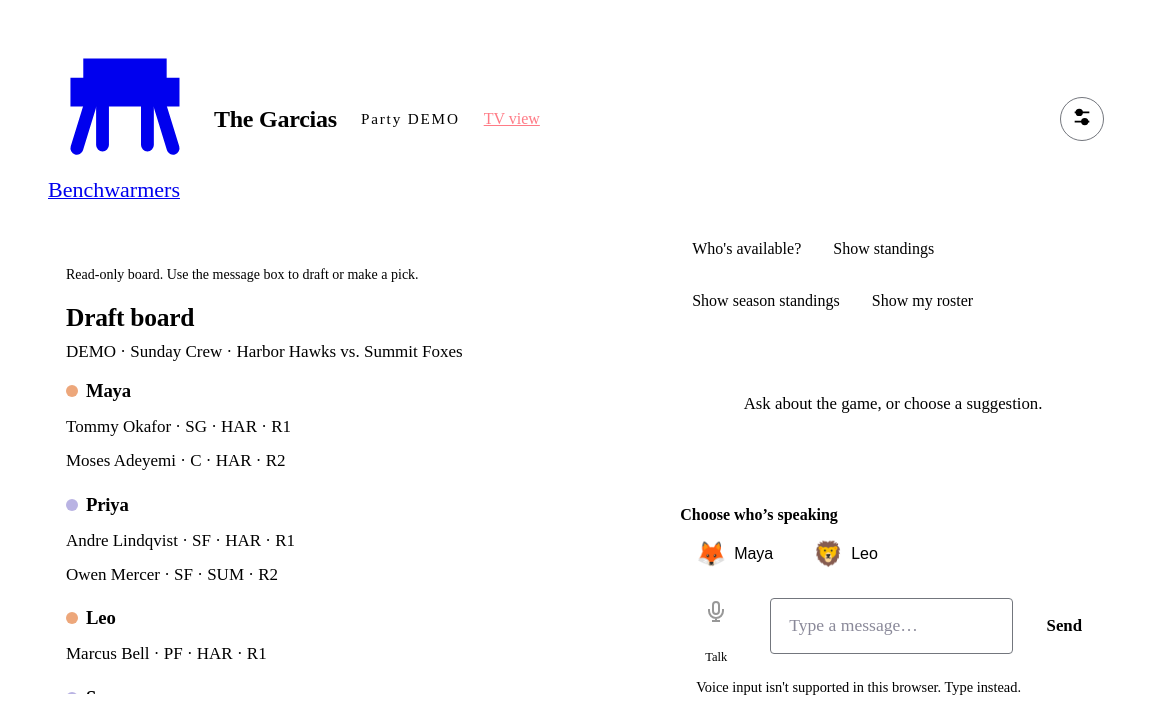
DeviceScreen › fallback card renders from structuredContent when the widget cannot start
Type "show the board" into the field labelled "Type a message". click: x=891, y=626
box: [770, 598, 1012, 654]
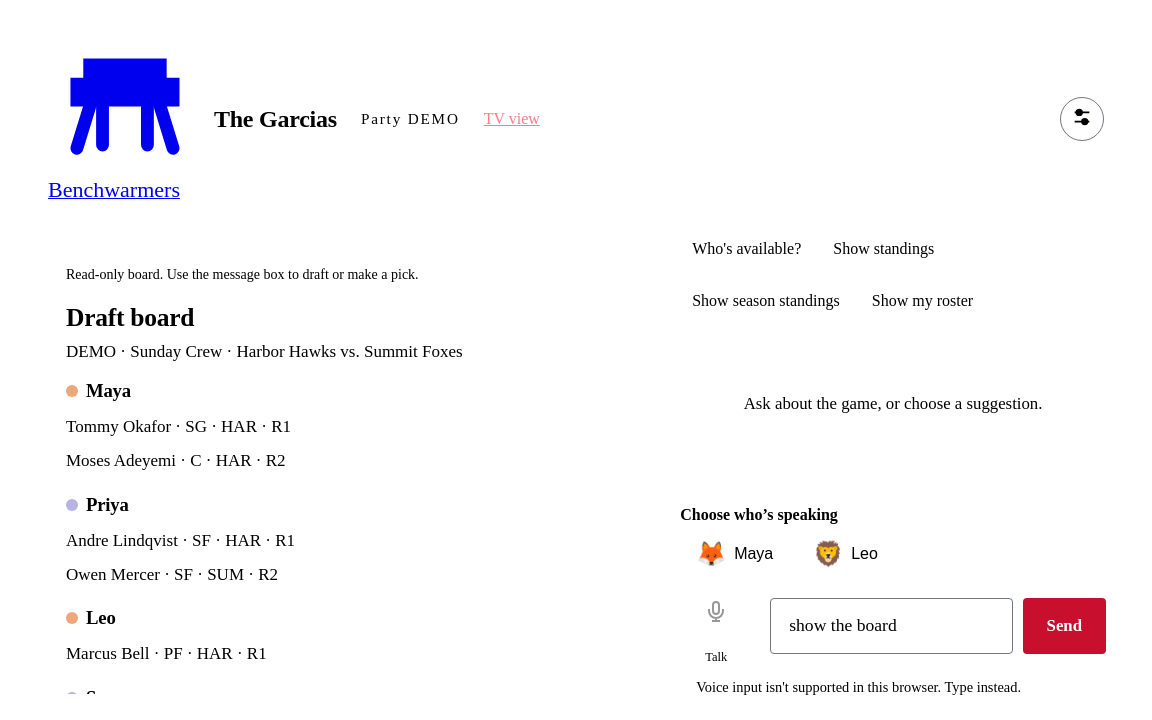
Submit the form named "Type a message", box [770, 598, 1106, 654]
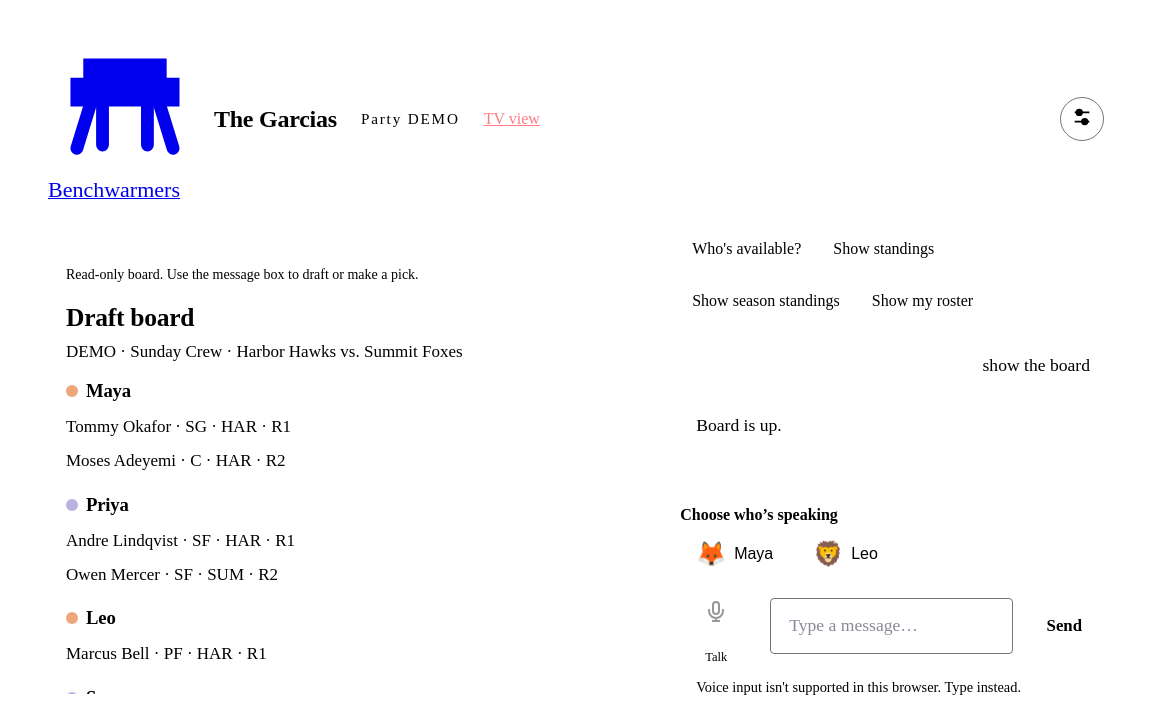
Check: the heading "Draft board" is shown, box [66, 303, 194, 332]
Check: the text "Board is up." is shown, box [696, 413, 782, 438]
